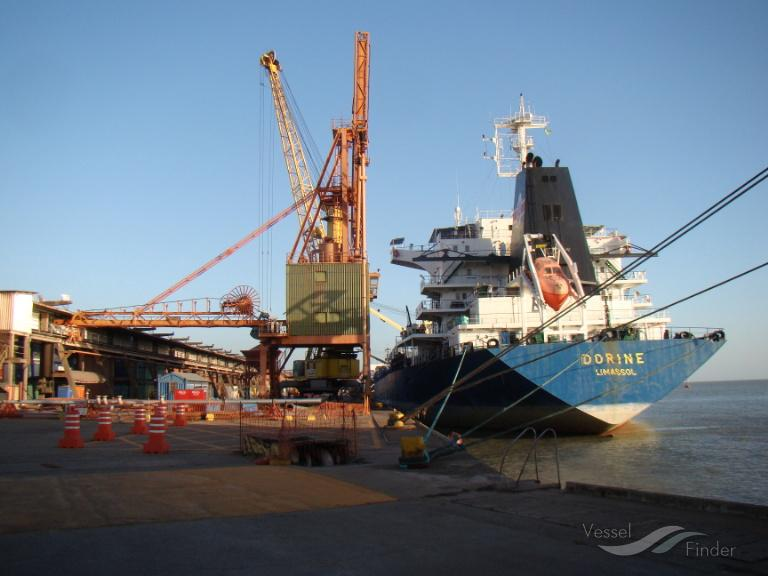OCR: (580, 344, 644, 383)
